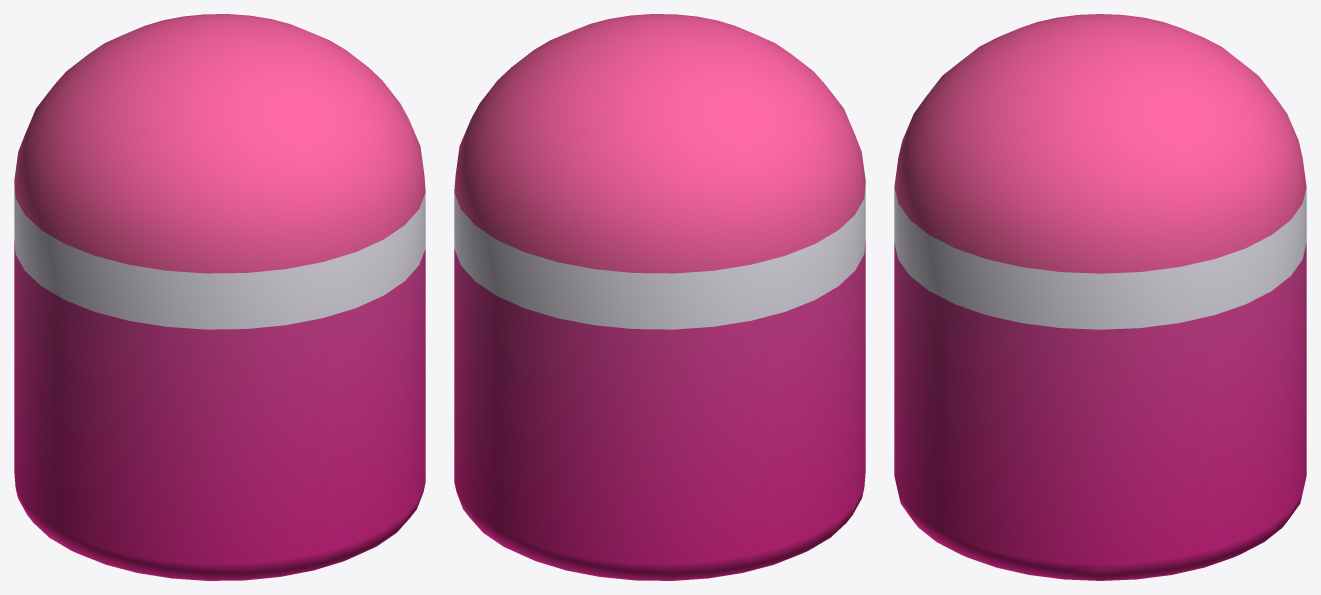
File: bumper_post_2x2p5.glb
3 renders of one model, left to right at view 1: azimuth 30°, elevation 25°; view 2: azimuth 150°, elevation 25°; view 3: azimuth 270°, elevation 25°, orthographic.
Visible parts, largest first — view 1: bumper_post_2x2p5; view 2: bumper_post_2x2p5; view 3: bumper_post_2x2p5.
Boxes of the visible parts, x1=… form: bumper_post_2x2p5: x1=14, y1=14, x2=425, y2=580; bumper_post_2x2p5: x1=454, y1=14, x2=865, y2=580; bumper_post_2x2p5: x1=894, y1=14, x2=1306, y2=580.
Size of the model in its own units: 2 by 2.5 by 2.
1 material, 1 textured.
